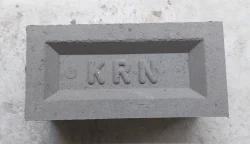brick: (24, 20, 229, 121)
